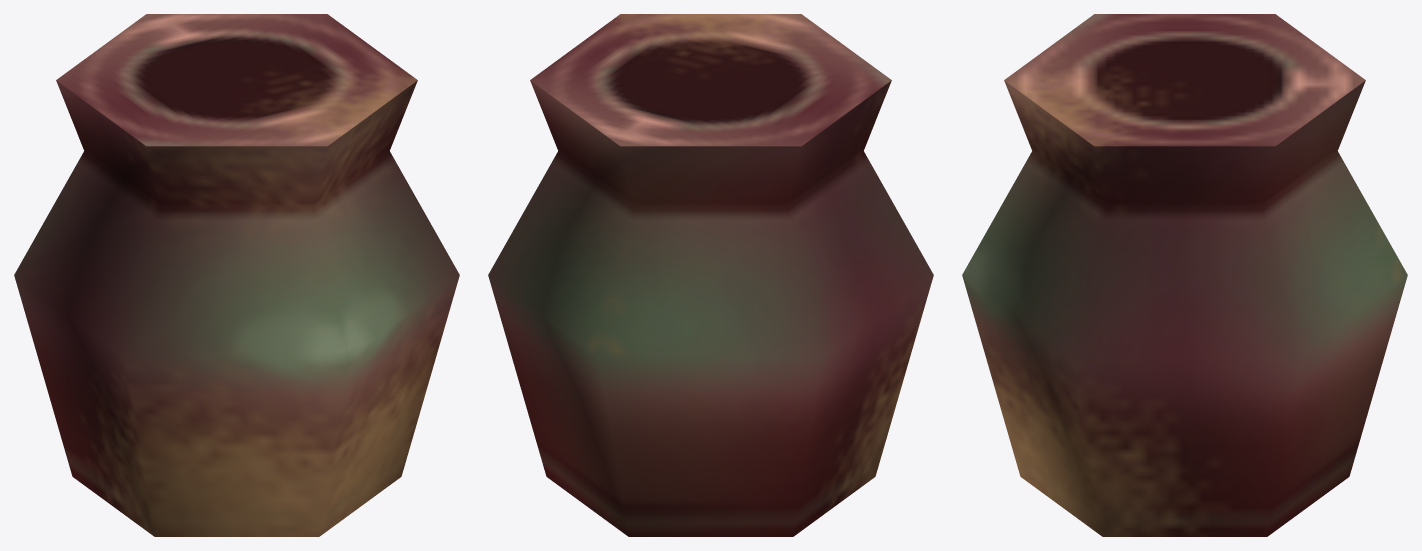
Rendered from pingzi04.FBX.
3 views of the same model, side by side, from view 1: azimuth 30°, elevation 25°; view 2: azimuth 150°, elevation 25°; view 3: azimuth 270°, elevation 25° (orthographic).
Visible parts, largest first — view 1: pingzi04; view 2: pingzi04; view 3: pingzi04.
Part boxes in pixels (x1=…): pingzi04: x1=14, y1=14, x2=459, y2=536; pingzi04: x1=488, y1=14, x2=933, y2=536; pingzi04: x1=962, y1=14, x2=1407, y2=536.
Bounding box in the file's own units: 28.61 × 32.42 × 33.04.
